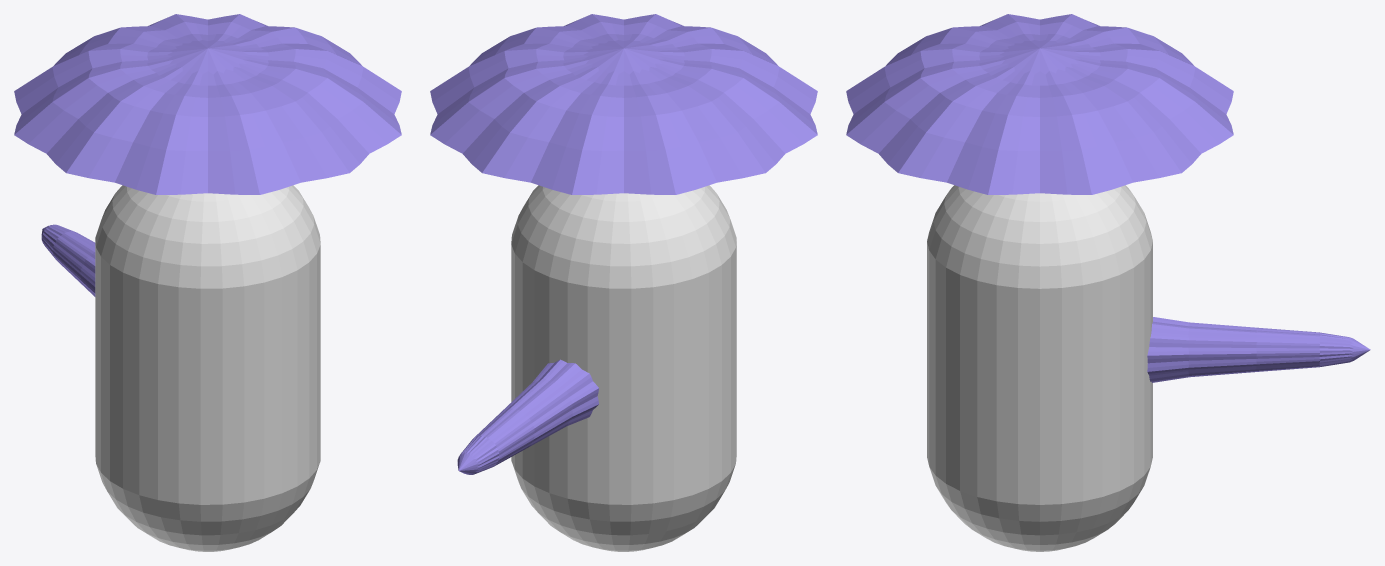
The model's file is umbrella.glb.
3 views of the same model, side by side, from view 1: azimuth 30°, elevation 25°; view 2: azimuth 150°, elevation 25°; view 3: azimuth 270°, elevation 25° (orthographic).
Parts seen in each view (by area): view 1: Sphere, Open, Closed; view 2: Sphere, Open, Closed; view 3: Sphere, Open, Closed.
Boxes of the visible parts, <box> form: Sphere: <box>95,185,320,551</box>; Open: <box>14,14,401,194</box>; Closed: <box>41,224,95,296</box>; Sphere: <box>511,185,736,551</box>; Open: <box>430,14,817,194</box>; Closed: <box>457,359,598,474</box>; Sphere: <box>927,185,1152,551</box>; Open: <box>846,14,1233,194</box>; Closed: <box>1147,317,1370,382</box>.
Size of the model in its own units: 2.65 by 3.72 by 3.59.
